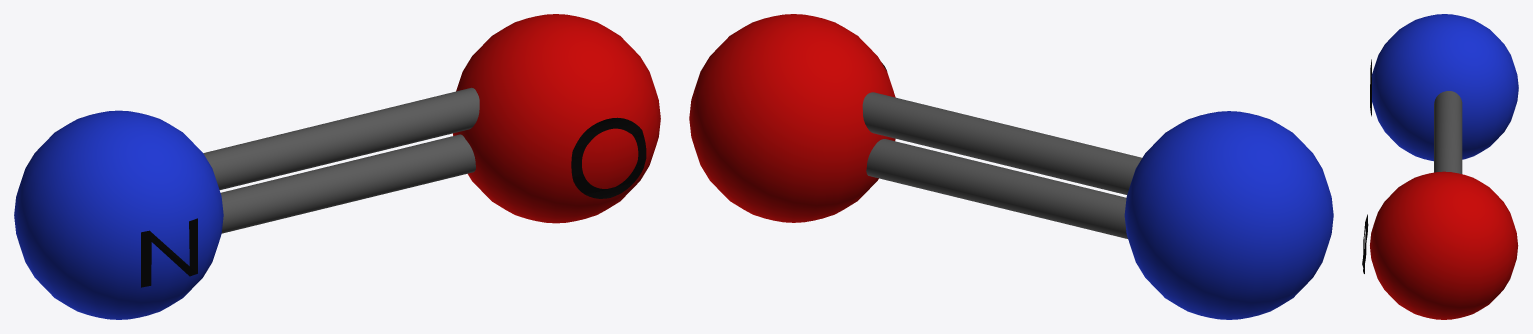
3 views of the same model, side by side, from view 1: azimuth 30°, elevation 25°; view 2: azimuth 150°, elevation 25°; view 3: azimuth 270°, elevation 25° (orthographic). The views are drawn at different scales.
Visible parts, largest first — view 1: Sphere.014, Sphere.023, Cylinder.025, Cylinder.018, Text.024, Text.023; view 2: Sphere.014, Sphere.023, Cylinder.025, Cylinder.018; view 3: Sphere.023, Sphere.014, Cylinder.025, Text.024.
Boxes of the visible parts, box(x1,y1,x2,y2) form: Sphere.014: box(14, 110, 223, 319); Sphere.023: box(453, 14, 660, 223); Cylinder.025: box(203, 87, 479, 189); Cylinder.018: box(220, 134, 475, 233); Text.024: box(571, 117, 646, 198); Text.023: box(141, 218, 197, 287); Sphere.014: box(1124, 111, 1333, 319); Sphere.023: box(689, 14, 895, 222); Cylinder.025: box(862, 92, 1141, 194); Cylinder.018: box(866, 139, 1127, 238); Sphere.023: box(1370, 171, 1518, 319); Sphere.014: box(1371, 14, 1518, 161); Cylinder.025: box(1434, 91, 1462, 173); Text.024: box(1362, 214, 1368, 273).
Size of the model in its own units: 409 by 126 by 127.
